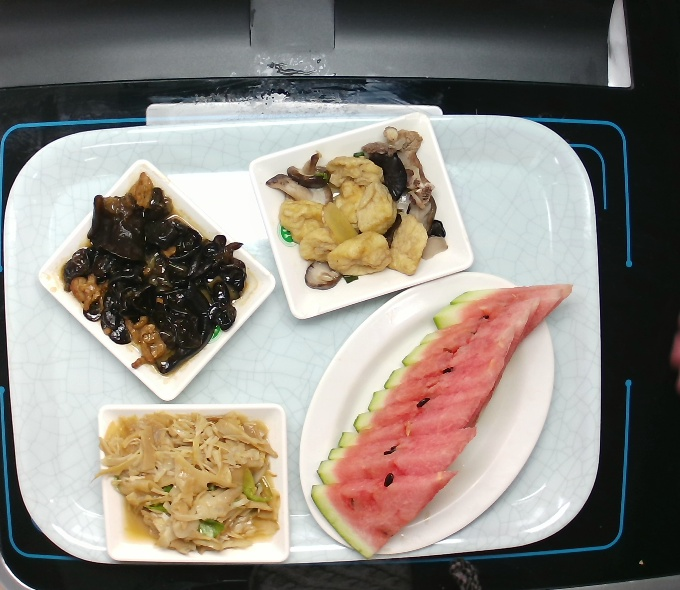wcq-LuSun: (95, 411, 284, 553)
wcq-MuErChaoRou: (61, 169, 252, 380)
wcq-XiGua: (311, 281, 573, 562)
wcq-YouPaoPaiGu: (261, 122, 459, 296)
